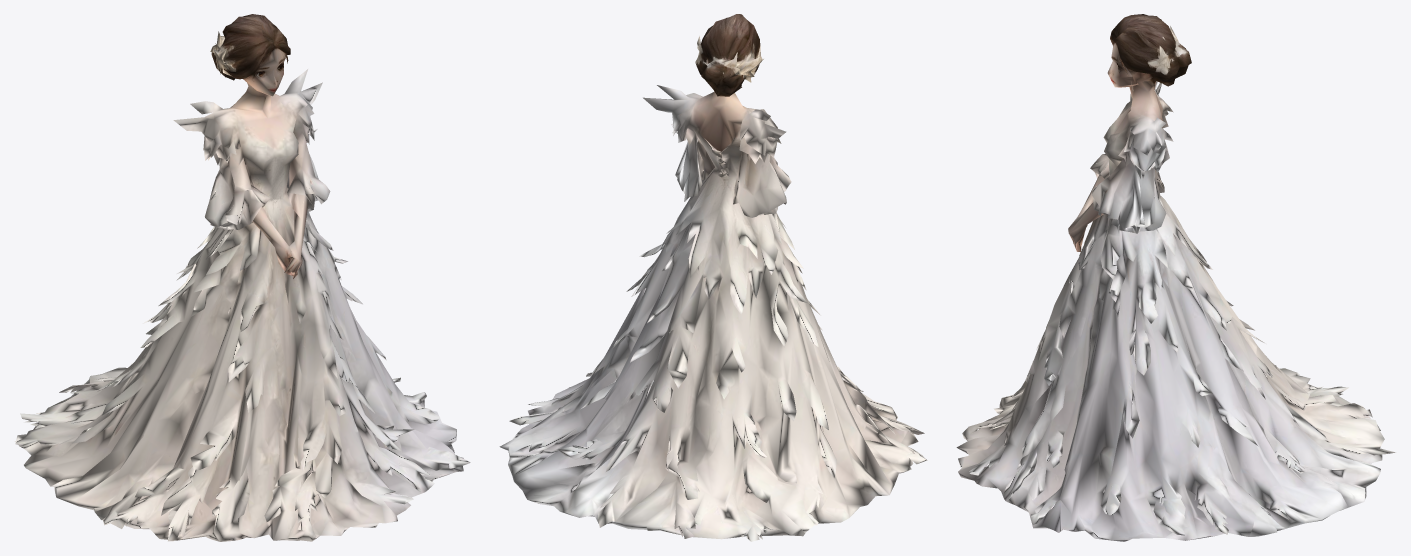
Rendered from wedding-dress.glb.
3 views of the same model, side by side, from view 1: azimuth 30°, elevation 25°; view 2: azimuth 150°, elevation 25°; view 3: azimuth 270°, elevation 25° (orthographic). The views are drawn at different scales.
Visible parts, largest first — view 1: tripo_node_35d5c6ff-0940-4e7e-a0cc-be5d2045b19e; view 2: tripo_node_35d5c6ff-0940-4e7e-a0cc-be5d2045b19e; view 3: tripo_node_35d5c6ff-0940-4e7e-a0cc-be5d2045b19e.
Part boxes in pixels (x1=…): tripo_node_35d5c6ff-0940-4e7e-a0cc-be5d2045b19e: x1=14, y1=14, x2=470, y2=541; tripo_node_35d5c6ff-0940-4e7e-a0cc-be5d2045b19e: x1=499, y1=14, x2=927, y2=541; tripo_node_35d5c6ff-0940-4e7e-a0cc-be5d2045b19e: x1=956, y1=14, x2=1395, y2=541.
Bounding box in the file's own units: 0.8525 × 0.9781 × 0.8894.
1 material, 1 textured.
